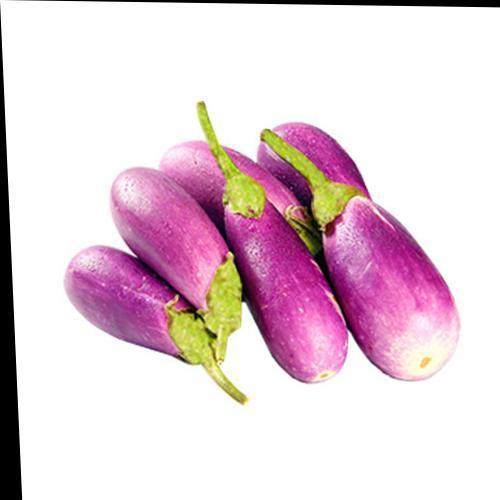eggplant: (76, 117, 449, 387)
